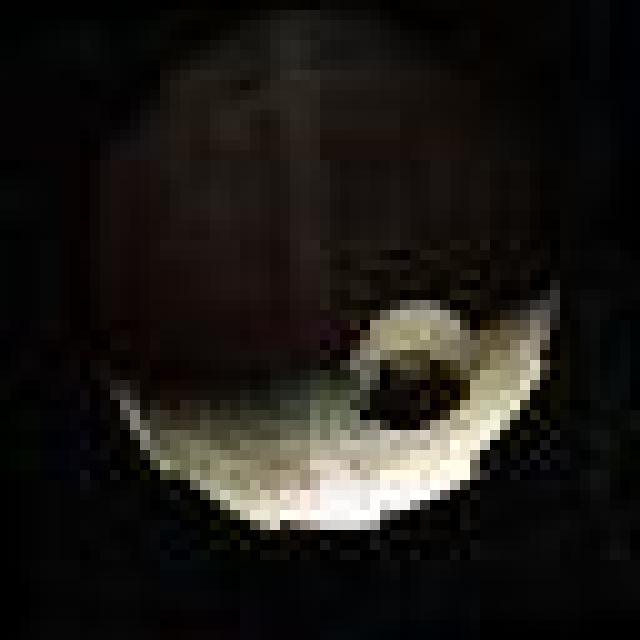Death Star: (89, 11, 566, 531)
